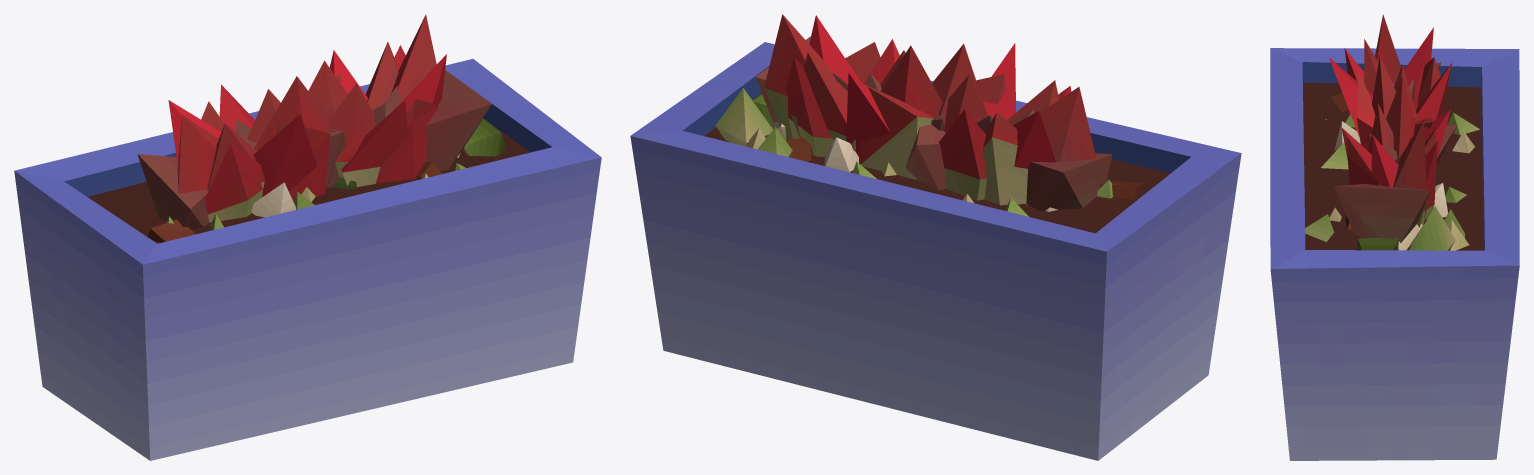
The model's file is Flower_Pot_003.FBX.
3 renders of one model, left to right at view 1: azimuth 30°, elevation 25°; view 2: azimuth 150°, elevation 25°; view 3: azimuth 270°, elevation 25°, orthographic. The views are drawn at different scales.
Parts seen in each view (by area): view 1: Flower_Pot_003; view 2: Flower_Pot_003; view 3: Flower_Pot_003.
Boxes of the visible parts, left/top/right/bottom form: Flower_Pot_003: left=14, top=14, right=601, bottom=460; Flower_Pot_003: left=630, top=14, right=1241, bottom=460; Flower_Pot_003: left=1270, top=14, right=1519, bottom=460.
Size of the model in its own units: 0.2283 by 0.1113 by 0.1509.
